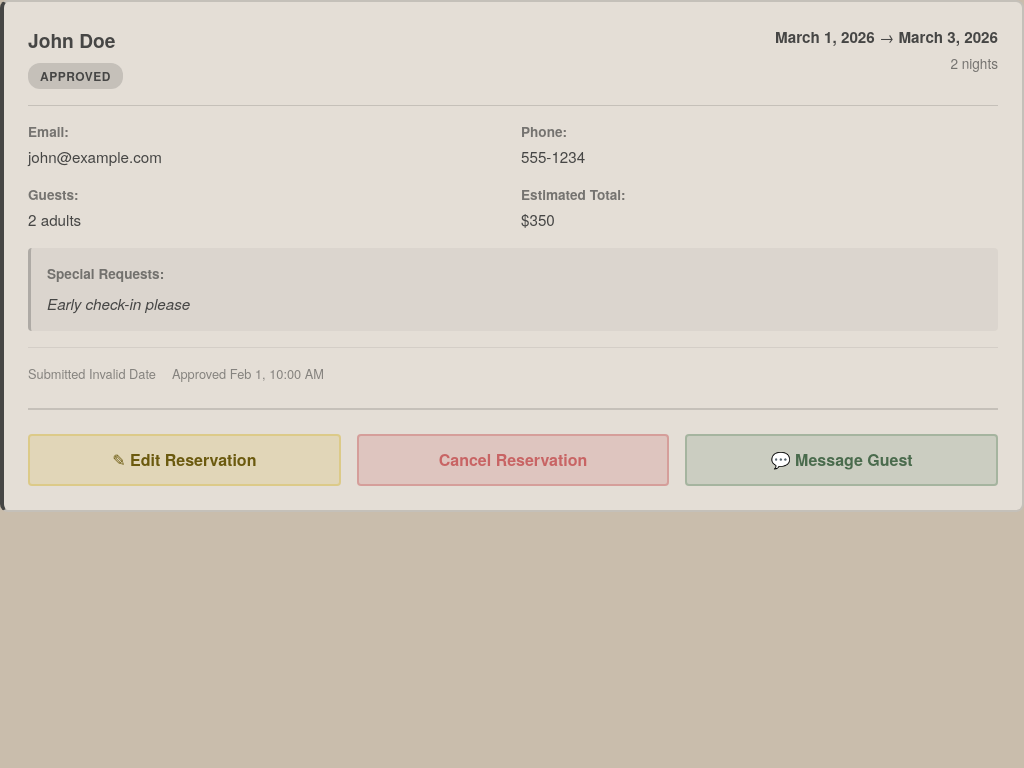
Test: ReservationCard › Message form for approved reservations › clears error when typing in message field
Click the button "💬 Message Guest". click: (842, 460)
box: 685,434 -> 998,486
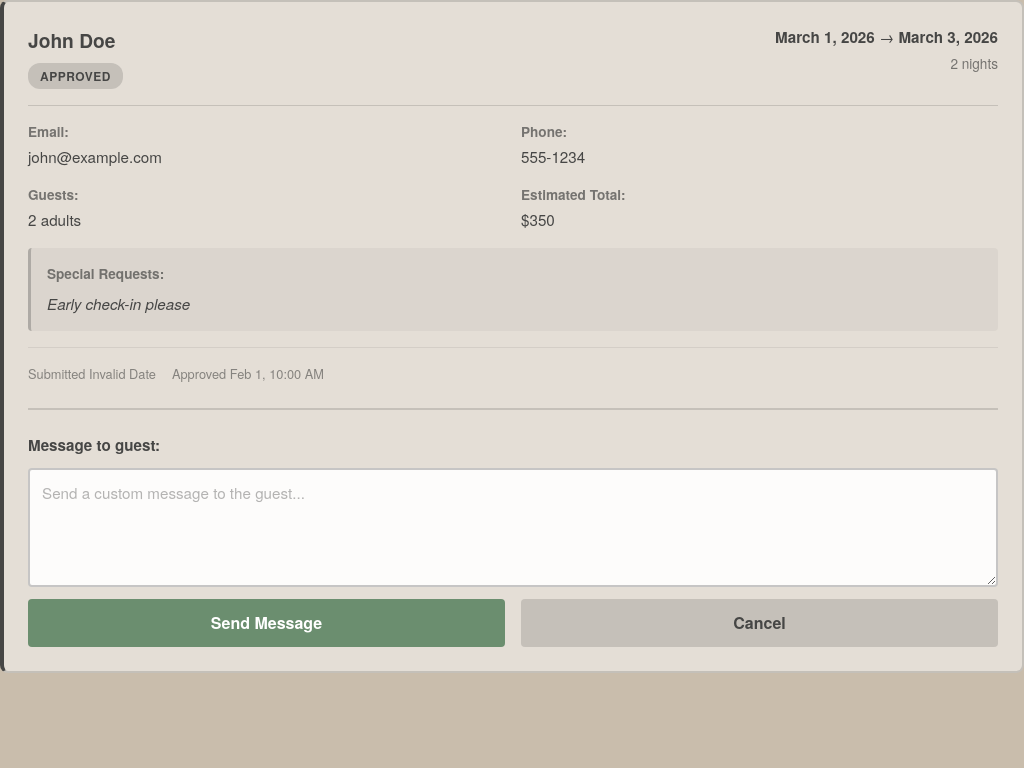
Trigger error
Click the button "Send Message". click: (266, 624)
box: 28,600 -> 505,648
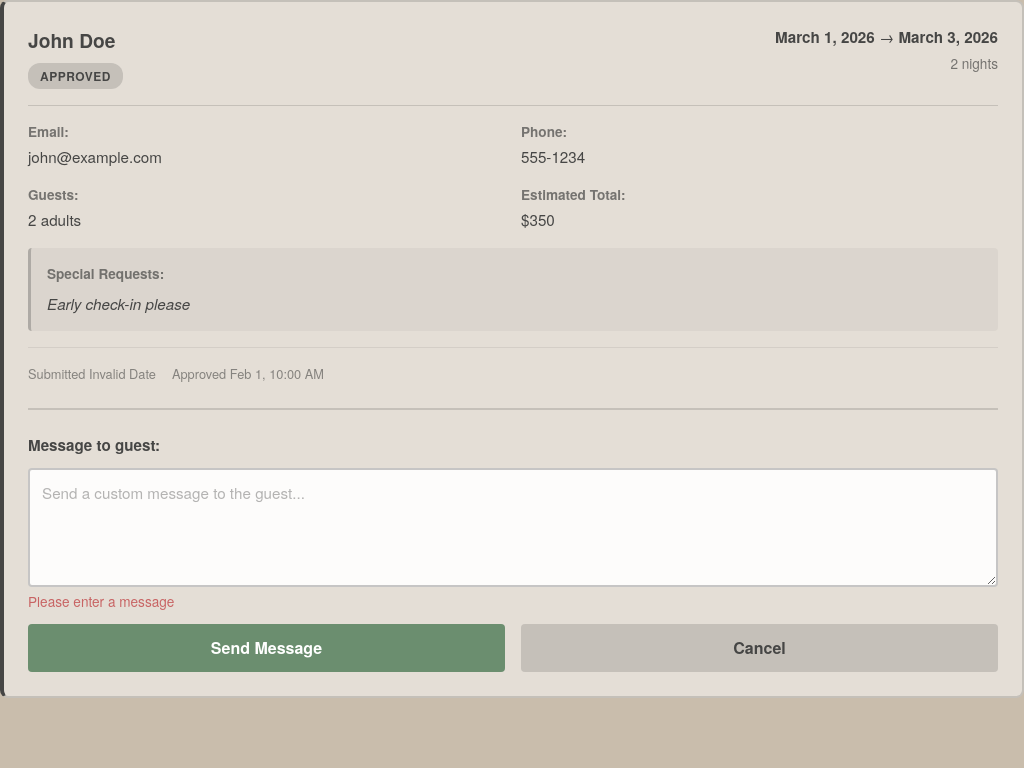
Result: the text "Please enter a message" is shown at 28,592 -> 174,612
Type to clear error
Type "Hi" into the text box with placeholder "Send a custom message to the guest...". click: (513, 528)
box: 28,468 -> 998,587
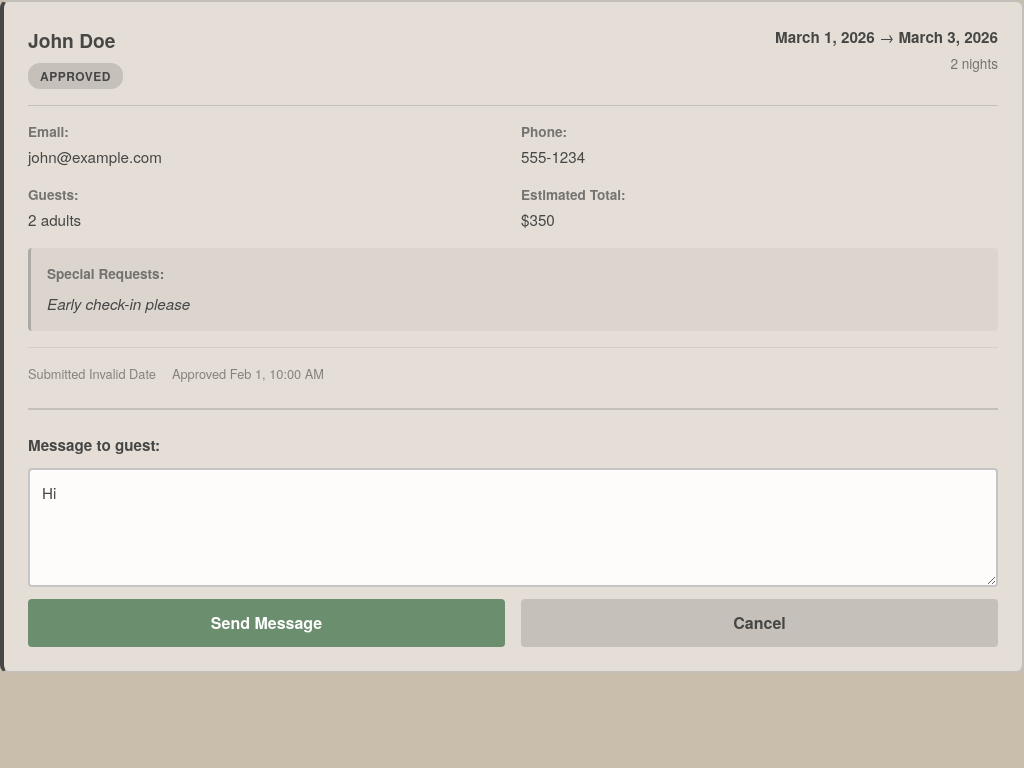
Result: the text "Please enter a message" is gone
